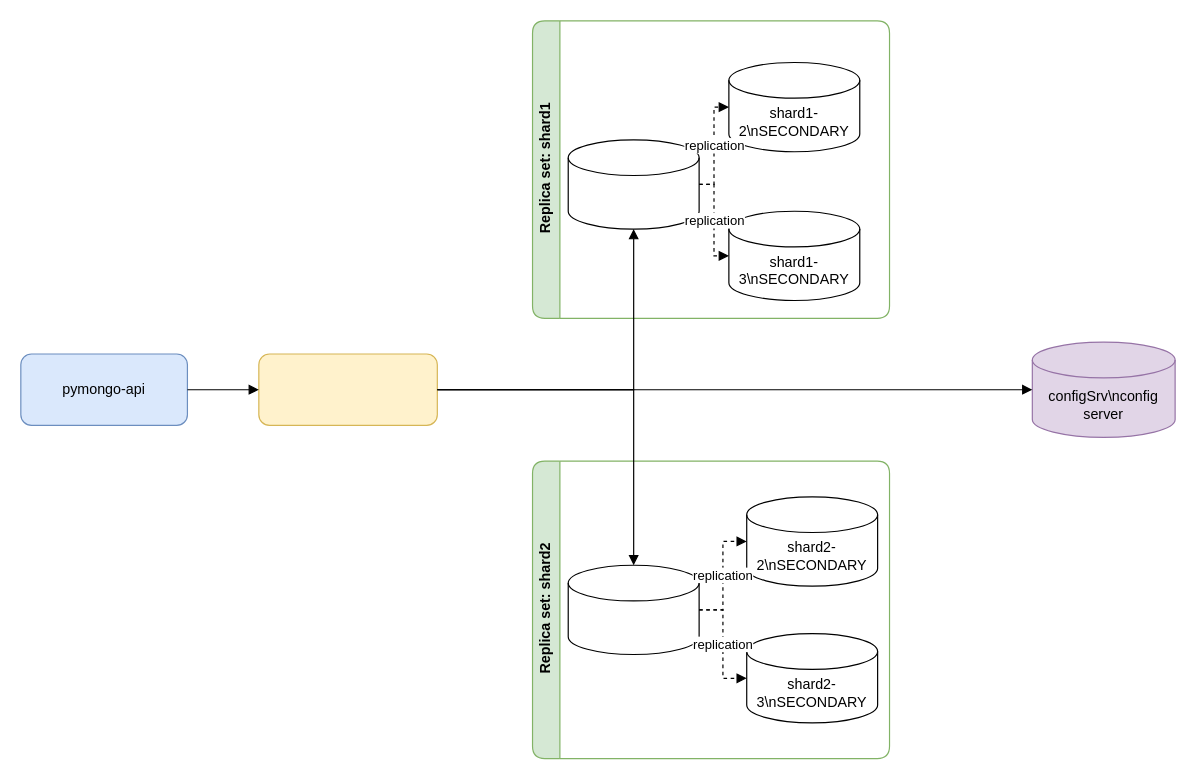
The diagram is 1196 pixels wide and 779 high, and some of its shapes have lost their labels. Here are the shapes that lost their labels. From the top down, the centre of each, then its label:
At [633,184]: "shard1-1\nPRIMARY".
At [347,389]: "mongos\nquery router".
At [633,609]: "shard2-1\nPRIMARY".
